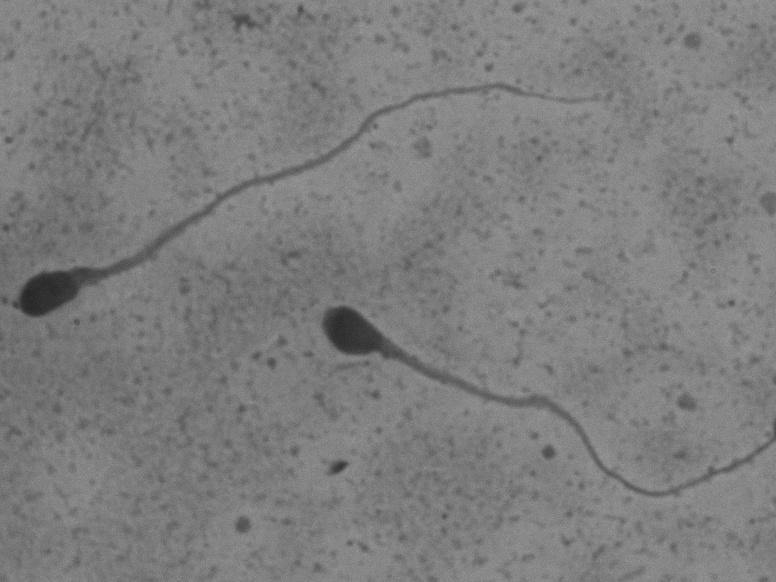Abnormal: (9, 67, 612, 337), (293, 270, 757, 535)
